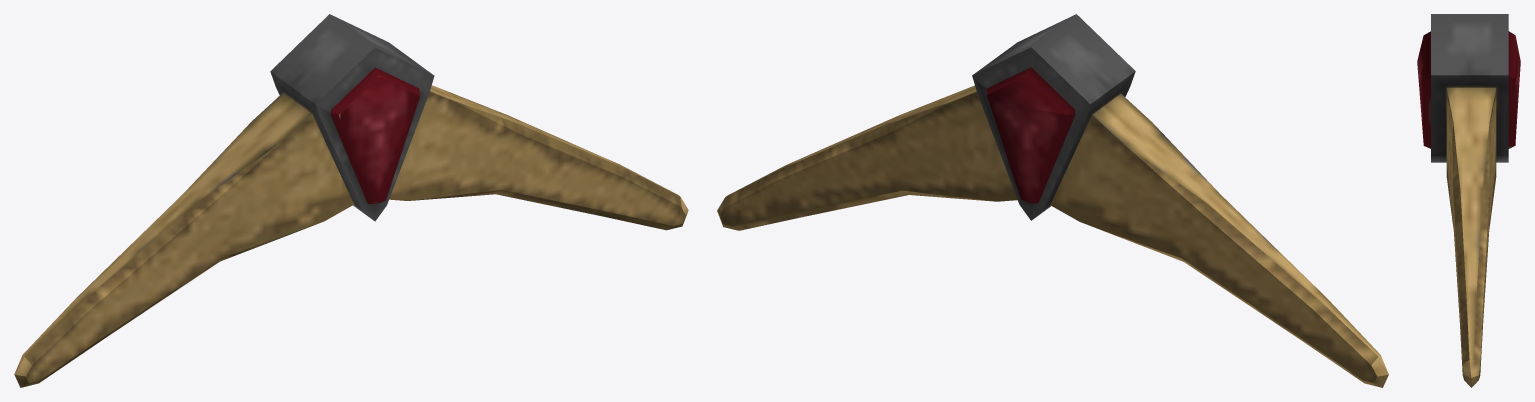
The model's file is boomerang.obj.
The picture shows the model from 3 angles, left to right: view 1: azimuth 30°, elevation 25°; view 2: azimuth 150°, elevation 25°; view 3: azimuth 270°, elevation 25°; orthographic projection. The views are drawn at different scales.
Parts seen in each view (by area): view 1: pCube1; view 2: pCube1; view 3: pCube1.
Part boxes in pixels (<box>): pCube1: <box>14,14,688,387</box>; pCube1: <box>717,14,1388,387</box>; pCube1: <box>1417,14,1520,387</box>.
Bounding box in the file's own units: 1.4 × 0.5487 × 0.2181.
